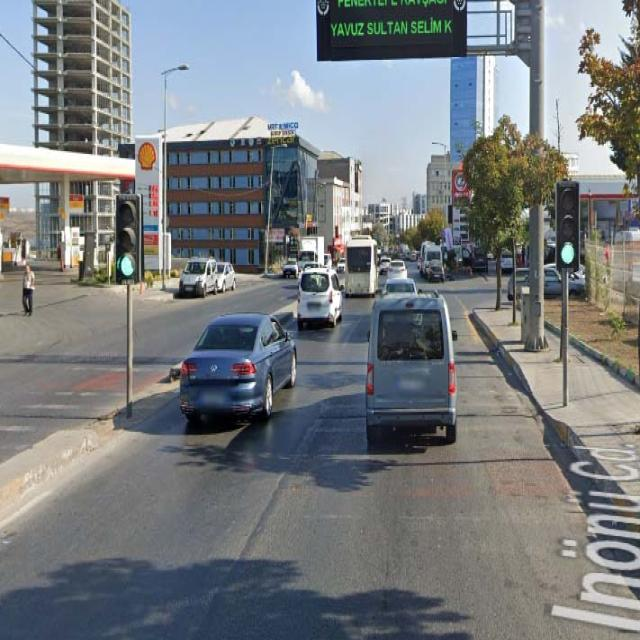yesil: (554, 178, 581, 274), (115, 192, 142, 284)
